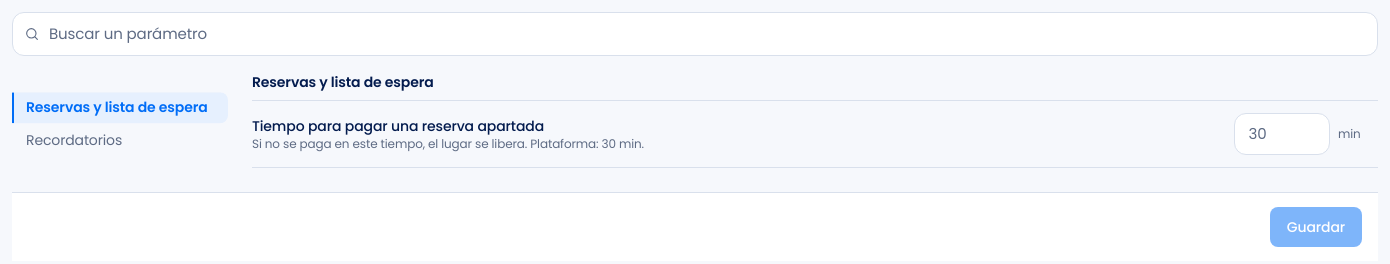
Scenario: una categoría a la vez (sin scroll largo) › el índice marca la categoría con cambios sin guardar
Type "45" into the number field with class "minutos_para_pagar".
click(1282, 134); type("45")  # box [1234,113,1330,155]
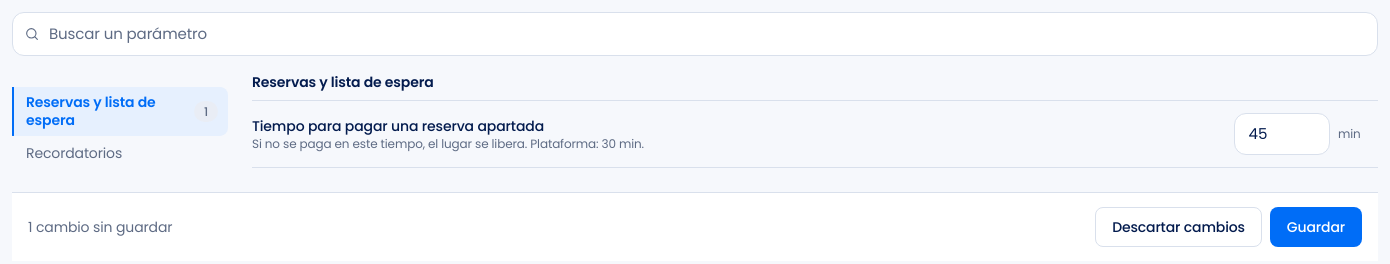
Expected: the text with class "tu-badge" reads "1", [204,102,208,120]
